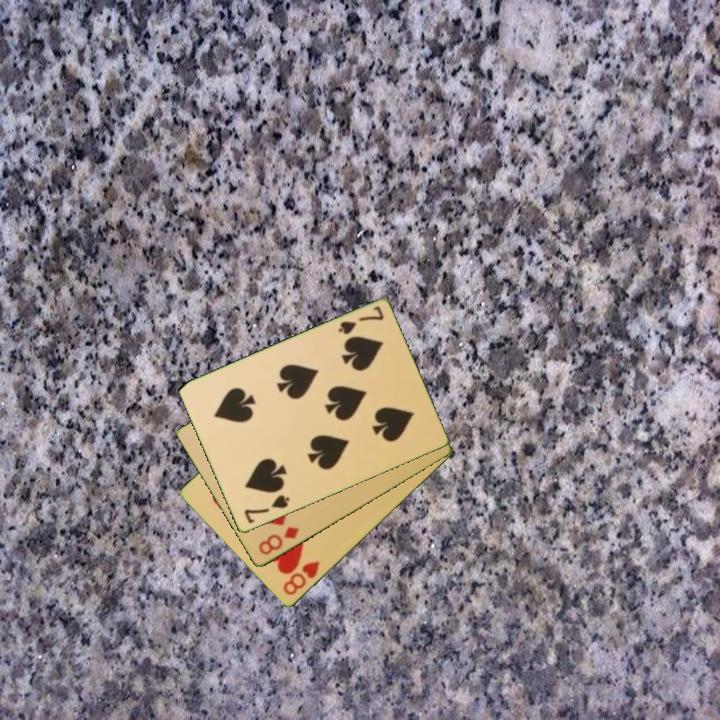7s: (240, 491, 293, 527), (334, 303, 387, 338)
8d: (255, 523, 302, 558)
8h: (279, 558, 323, 598)
